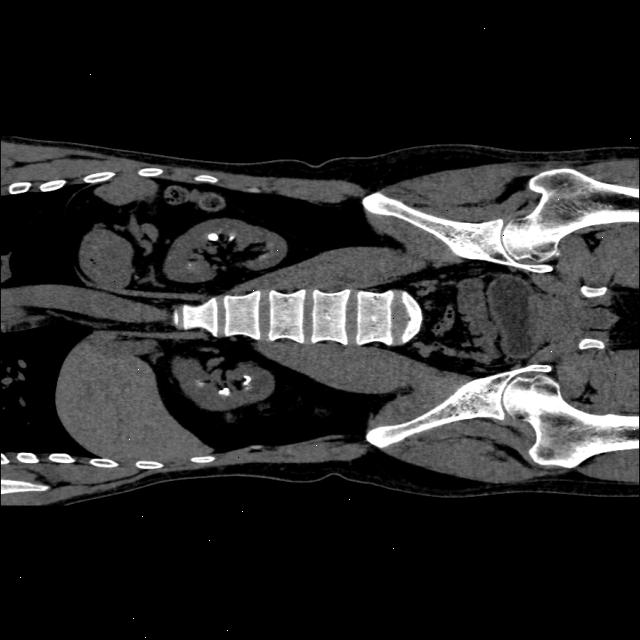kidneystone: (243, 374, 252, 384), (218, 389, 229, 395), (208, 235, 217, 240)
